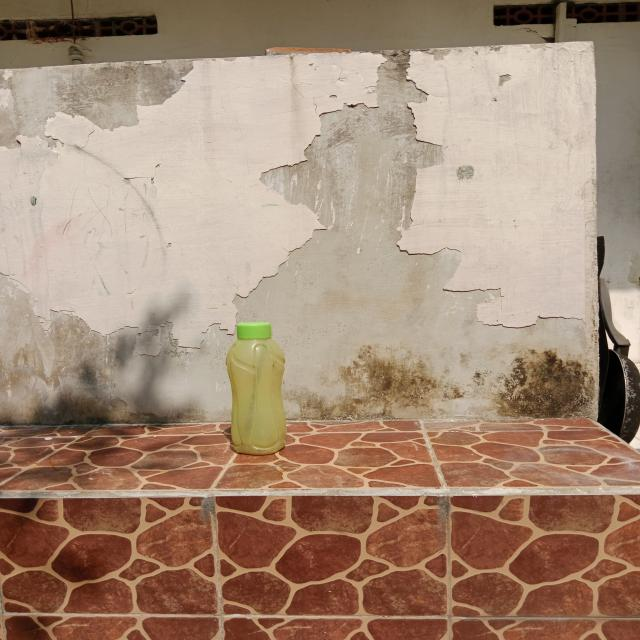botol_minum: (207, 311, 314, 472)
